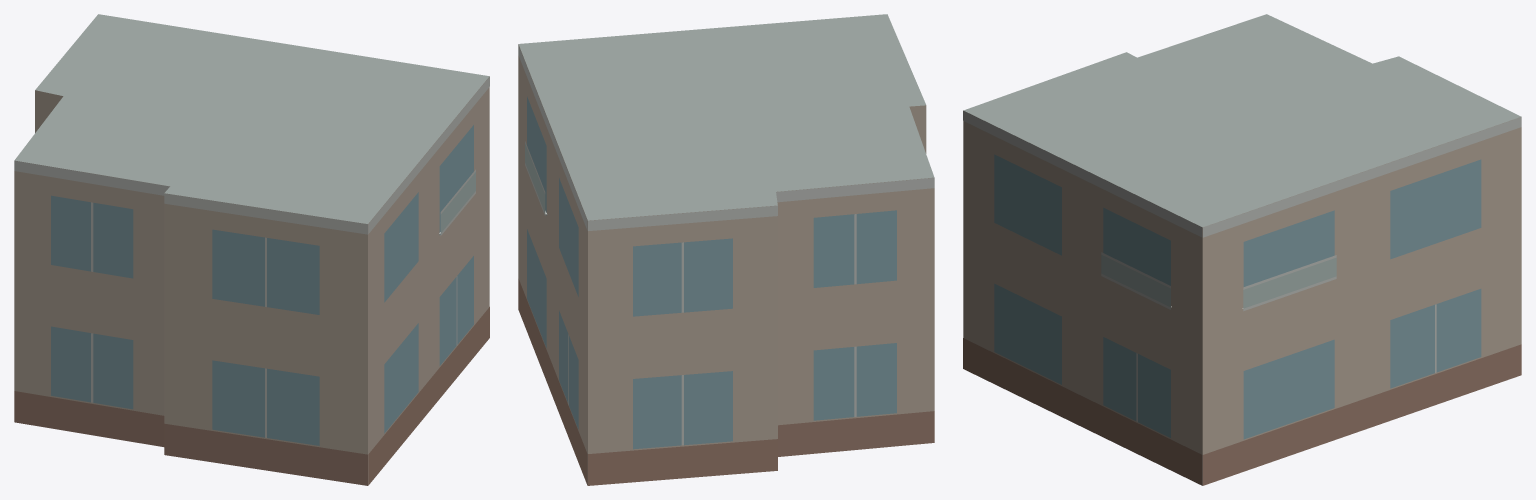
The model's file is survey-upis-32585974.glb.
3 renders of one model, left to right at view 1: azimuth 30°, elevation 25°; view 2: azimuth 150°, elevation 25°; view 3: azimuth 270°, elevation 25°, orthographic. The views are drawn at different scales.
Visible parts, largest first — view 1: survey-upis-32585974.tmp; view 2: survey-upis-32585974.tmp; view 3: survey-upis-32585974.tmp.
Part boxes in pixels (x1,y1,x2,y2): survey-upis-32585974.tmp: (14, 14, 489, 485); survey-upis-32585974.tmp: (518, 14, 934, 485); survey-upis-32585974.tmp: (963, 14, 1521, 485).
Size of the model in its own units: 10.82 by 6.1 by 11.95.
